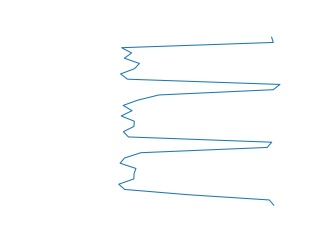majorRiverChannelBar: (116, 35, 281, 207)
